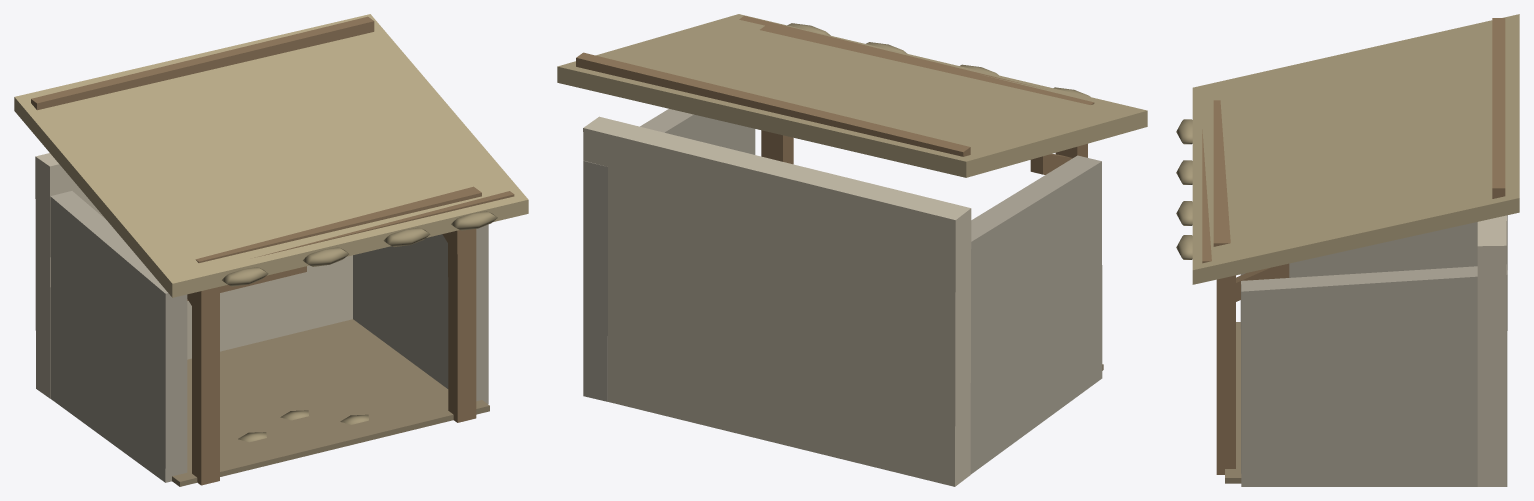
File: village_shed.glb
3 renders of one model, left to right at view 1: azimuth 30°, elevation 25°; view 2: azimuth 150°, elevation 25°; view 3: azimuth 270°, elevation 25°, orthographic. The views are drawn at different scales.
Visible parts, largest first — view 1: Shed_Roof, Shed_Structure, Shed_Interior; view 2: Shed_Structure, Shed_Roof; view 3: Shed_Structure, Shed_Roof, Shed_Interior.
Part boxes in pixels (x1,y1,x2,y2): Shed_Roof: (14,14,528,297); Shed_Structure: (35,153,488,485); Shed_Interior: (172,266,489,486); Shed_Structure: (583,23,1102,486); Shed_Roof: (557,14,1147,177); Shed_Structure: (1213,100,1507,486); Shed_Roof: (1176,14,1519,284); Shed_Interior: (1225,322,1241,483).
Bounding box in the file's own units: 2.64 × 2.07 × 2.13.
